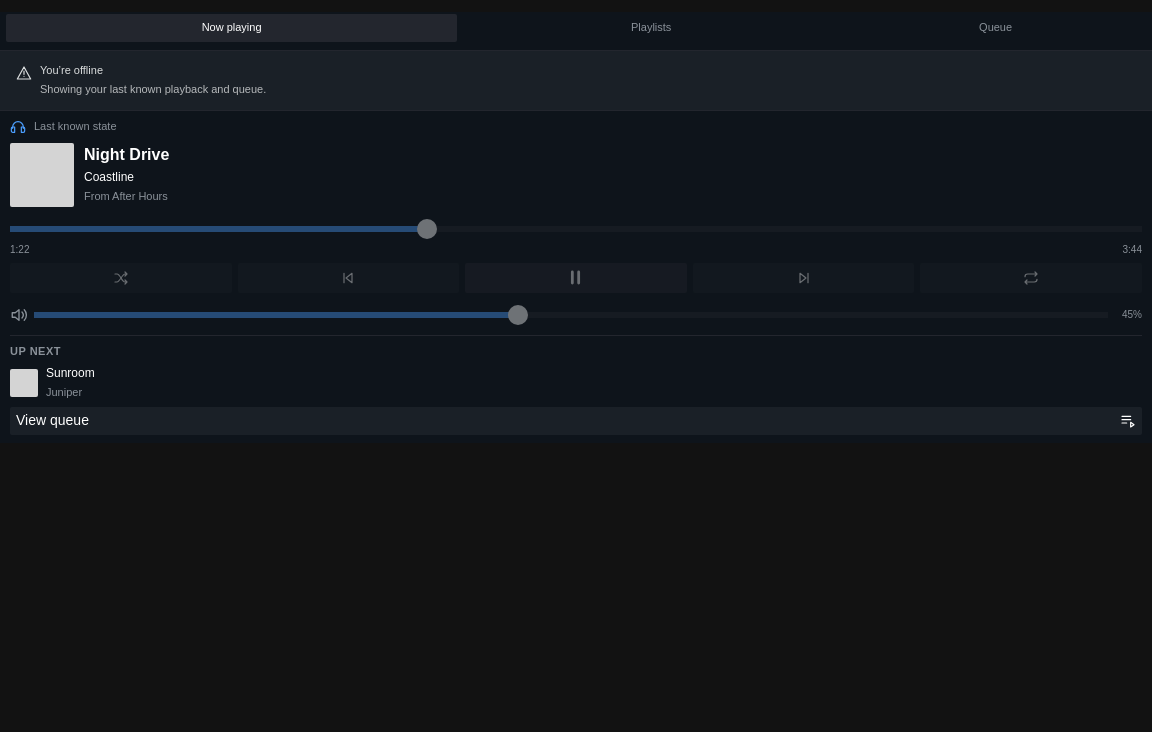
Test case: shared player UI › disables playback while offline but retains the queue
The image size is (1152, 732).
Expected: the button named "Pause" is disabled, [465,263,687,293]
Expected: the text "You’re offline" is shown, [40,64,103,76]
Click the button "Queue".
click(996, 28)  # box [845,14,1146,42]
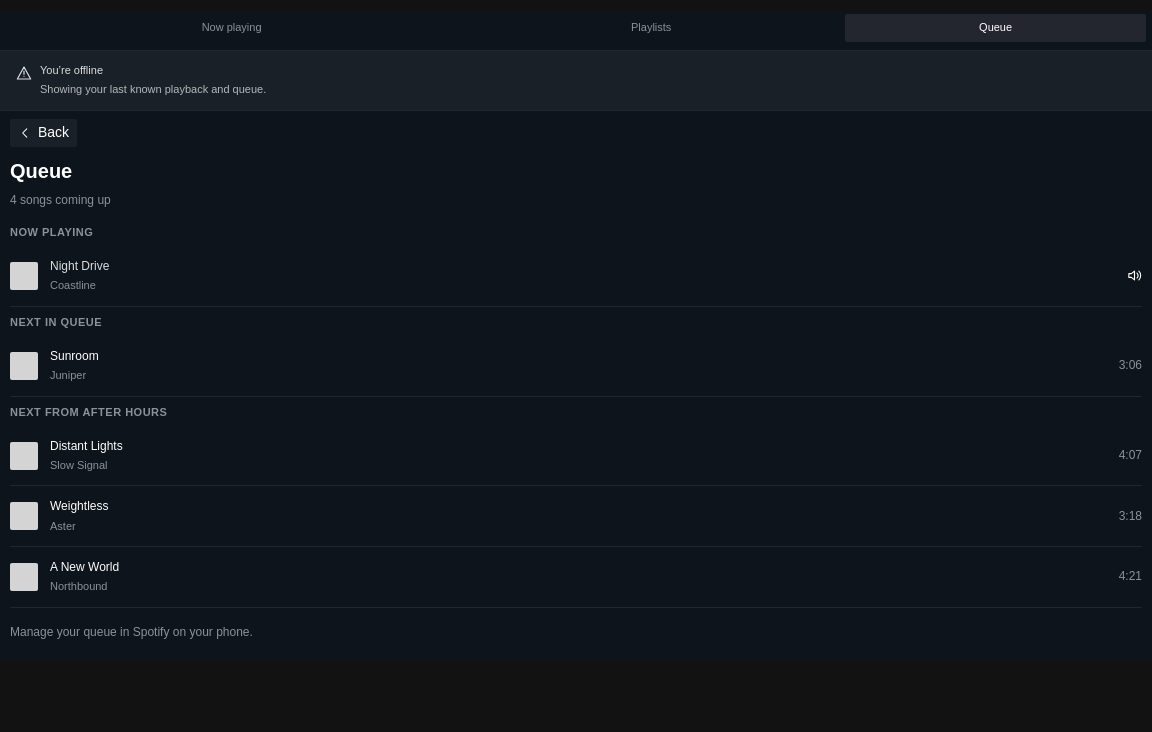
Expected: the list item with aria-label "Sunroom by Juniper" is shown, [10,336,1142,396]
